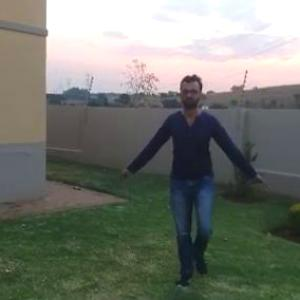land: (124, 66, 270, 290)
